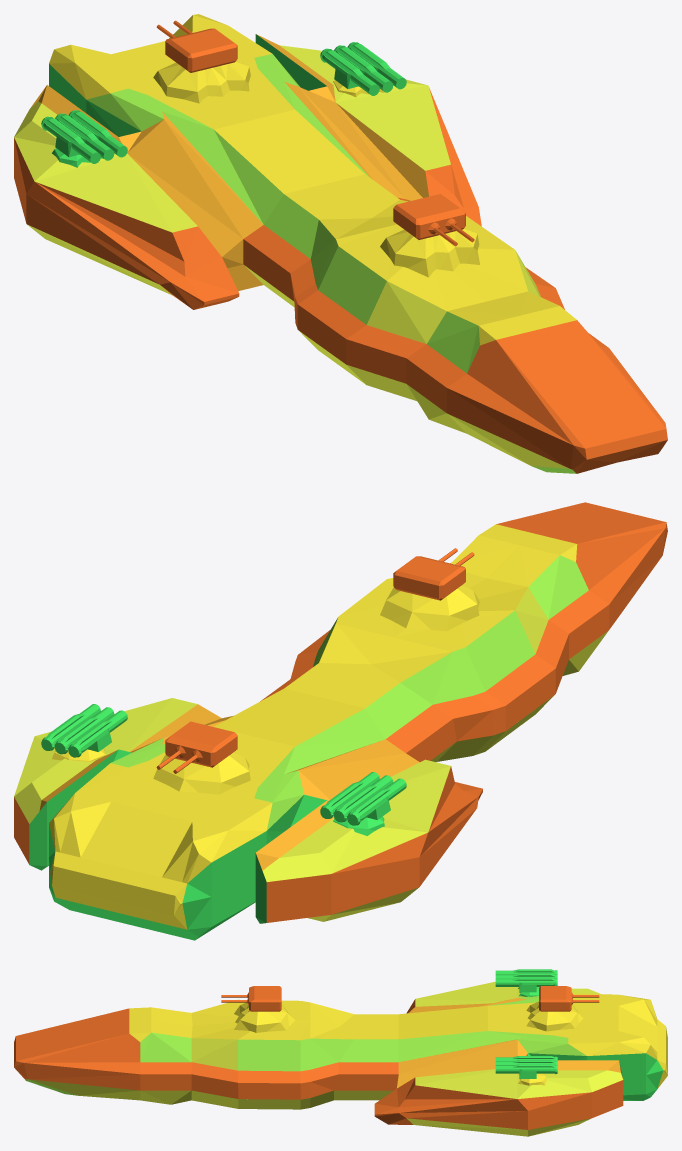
The model's file is WW_Imperial_PatrolFrigate_R02_Korshun_76mm_Twin.fbx.
3 renders of one model, top to bottom at view 1: azimuth 30°, elevation 25°; view 2: azimuth 150°, elevation 25°; view 3: azimuth 270°, elevation 25°, orthographic. The views are drawn at different scales.
Parts seen in each view (by area): view 1: Korshun_Hull.001, Korshun_Base_M_76mm_Fore.001, Korshun_Base_M_76mm_Aft.001, Korshun_TorpedoLauncher_3Tube_Right.001, Korshun_TorpedoLauncher_3Tube_Left.001, Korshun_Turret_76mm_Twin_Fore.001, Korshun_Turret_76mm_Twin_Aft.001; view 2: Korshun_Hull.001, Korshun_Base_M_76mm_Fore.001, Korshun_TorpedoLauncher_3Tube_Left.001, Korshun_TorpedoLauncher_3Tube_Right.001, Korshun_Base_M_76mm_Aft.001, Korshun_Turret_76mm_Twin_Aft.001, Korshun_Turret_76mm_Twin_Fore.001; view 3: Korshun_Hull.001, Korshun_Base_M_76mm_Fore.001, Korshun_TorpedoLauncher_3Tube_Right.001, Korshun_TorpedoLauncher_3Tube_Left.001, Korshun_Base_M_76mm_Aft.001, Korshun_Turret_76mm_Twin_Fore.001, Korshun_Turret_76mm_Twin_Aft.001.
Part boxes in pixels (box(x1,y1,x2,y2)): Korshun_Hull.001: box(14, 14, 667, 473); Korshun_Base_M_76mm_Fore.001: box(380, 228, 479, 277); Korshun_Base_M_76mm_Aft.001: box(153, 61, 250, 103); Korshun_TorpedoLauncher_3Tube_Right.001: box(320, 42, 406, 95); Korshun_TorpedoLauncher_3Tube_Left.001: box(41, 110, 127, 163); Korshun_Turret_76mm_Twin_Fore.001: box(393, 194, 474, 246); Korshun_Turret_76mm_Twin_Aft.001: box(156, 20, 237, 72); Korshun_Hull.001: box(14, 502, 667, 940); Korshun_Base_M_76mm_Fore.001: box(380, 585, 479, 631); Korshun_TorpedoLauncher_3Tube_Left.001: box(320, 772, 406, 825); Korshun_TorpedoLauncher_3Tube_Right.001: box(41, 704, 127, 757); Korshun_Base_M_76mm_Aft.001: box(153, 752, 250, 794); Korshun_Turret_76mm_Twin_Aft.001: box(156, 721, 237, 773); Korshun_Turret_76mm_Twin_Fore.001: box(393, 548, 474, 600); Korshun_Hull.001: box(14, 981, 667, 1136); Korshun_Base_M_76mm_Fore.001: box(234, 1002, 294, 1032); Korshun_TorpedoLauncher_3Tube_Right.001: box(495, 1056, 557, 1078); Korshun_TorpedoLauncher_3Tube_Left.001: box(495, 969, 557, 992); Korshun_Base_M_76mm_Aft.001: box(526, 1001, 583, 1031); Korshun_Turret_76mm_Twin_Fore.001: box(221, 986, 281, 1011); Korshun_Turret_76mm_Twin_Aft.001: box(539, 986, 599, 1011).
Bounding box in the file's own units: 29.08 × 10.08 × 65.77.
